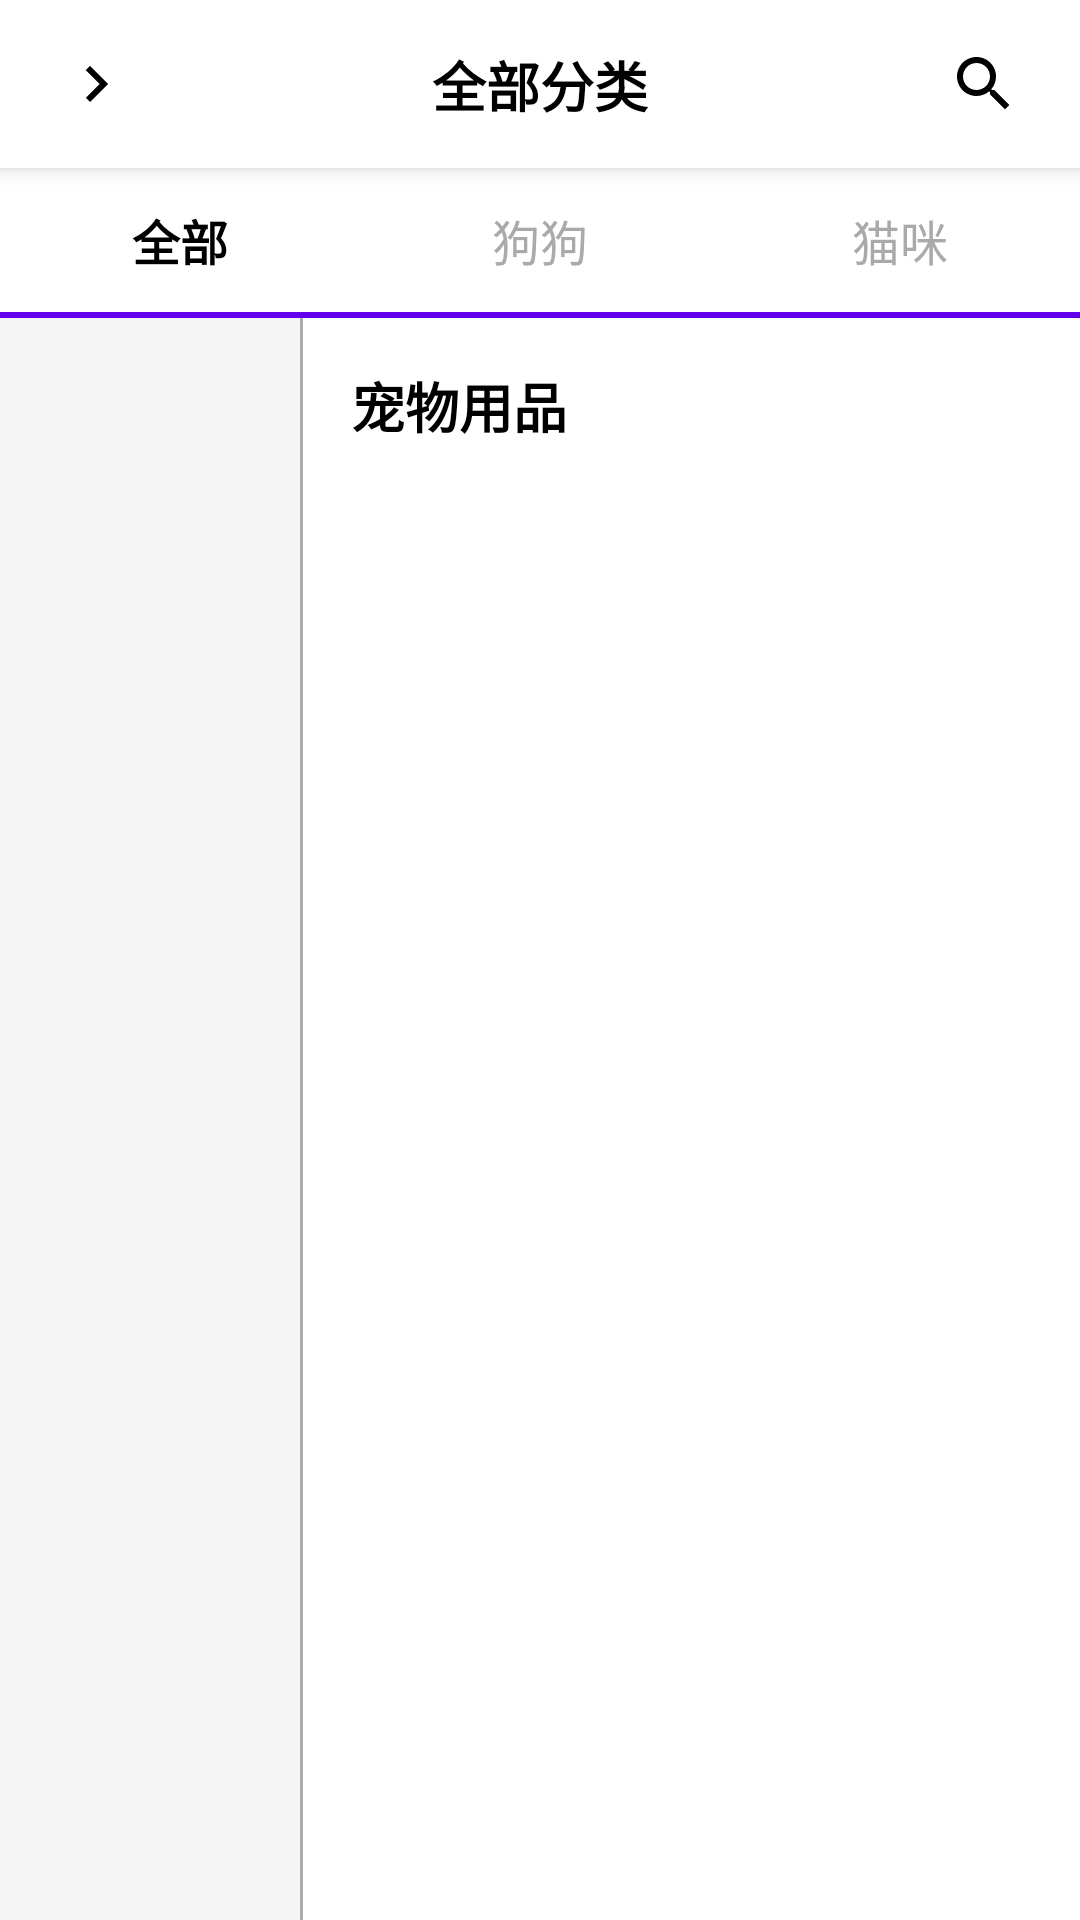

Icon bounding boxes for this 1080*1920 phone screenshot, format (x1, y1, x2, y2):
搜索: (957, 57, 1009, 109)
